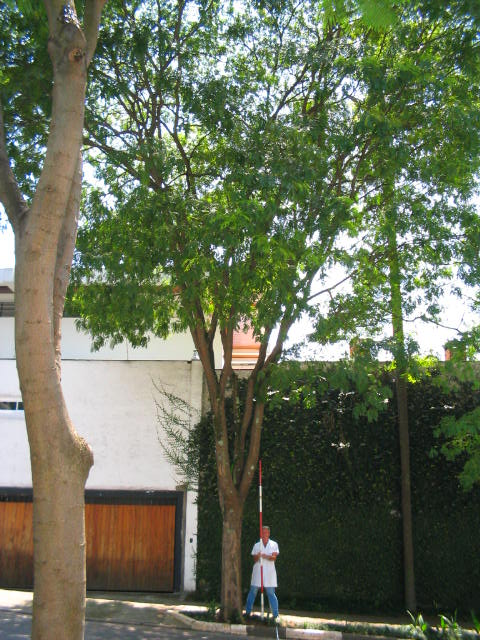crown: (88, 3, 476, 369)
stem: (4, 233, 109, 638), (211, 497, 254, 620)
stick: (253, 457, 268, 620)
tree: (86, 1, 477, 623)
